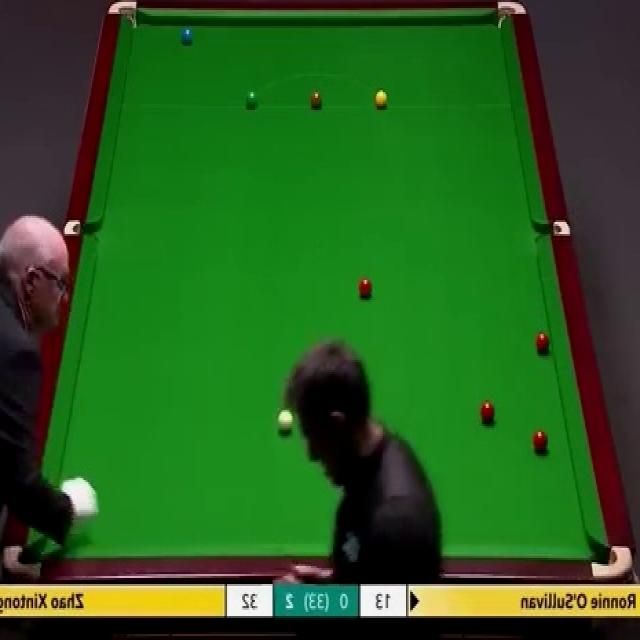blue-ball: (182, 27, 192, 48)
brown-ball: (310, 92, 323, 109)
green-ball: (244, 88, 258, 112)
red-ball: (534, 330, 552, 356), (533, 430, 548, 454), (480, 400, 494, 424), (358, 278, 374, 297)
white-ball: (278, 408, 293, 434)
yellow-ball: (374, 89, 388, 110)
